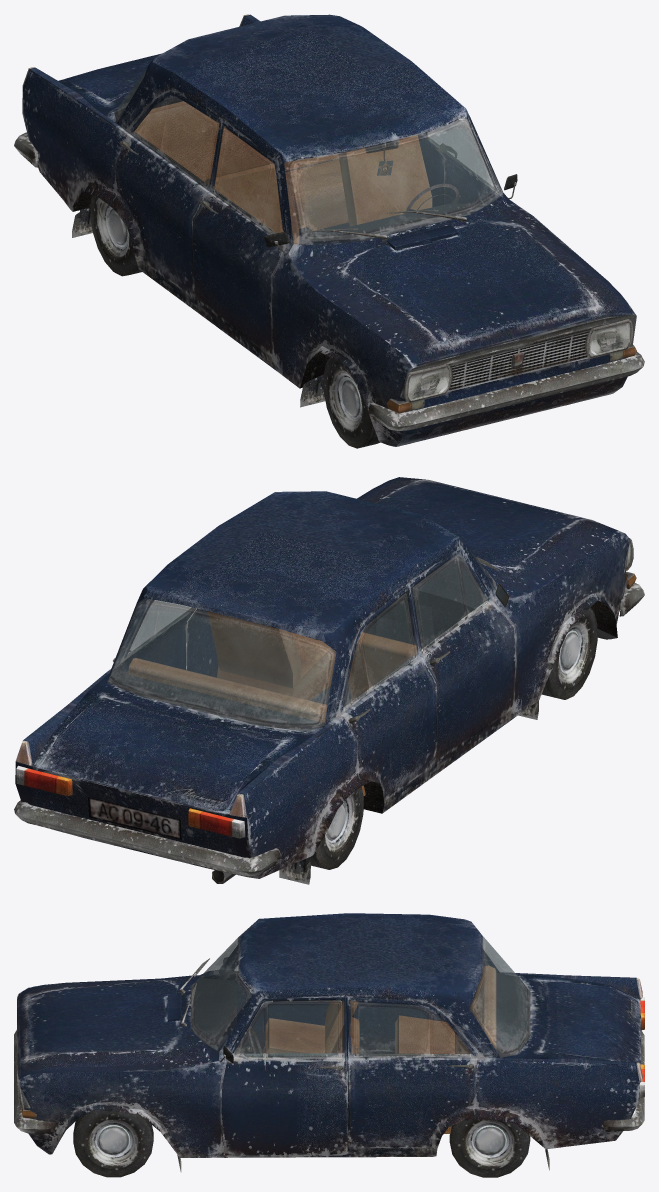
The model's file is moskvich.gltf.
The picture shows the model from 3 angles, top to bottom: view 1: azimuth 30°, elevation 25°; view 2: azimuth 150°, elevation 25°; view 3: azimuth 270°, elevation 25°; orthographic projection. The views are drawn at different scales.
Visible parts, largest first — view 1: Body, Wheel_FR, Wheel_RR; view 2: Body, Wheel_FR, Wheel_RR; view 3: Body, Wheel_FL, Wheel_RL.
Part boxes in pixels (x1,y1,x2,y2): Body: (14,14,644,448); Wheel_FR: (323,364,364,444); Wheel_RR: (96,199,141,276); Body: (14,477,644,884); Wheel_FR: (541,616,593,699); Wheel_RR: (325,791,363,867); Body: (14,913,644,1177); Wheel_FL: (83,1115,151,1177); Wheel_RL: (449,1119,517,1177).
Size of the model in its own units: 1.61 by 1.35 by 4.14.
3 materials, 3 textured.
